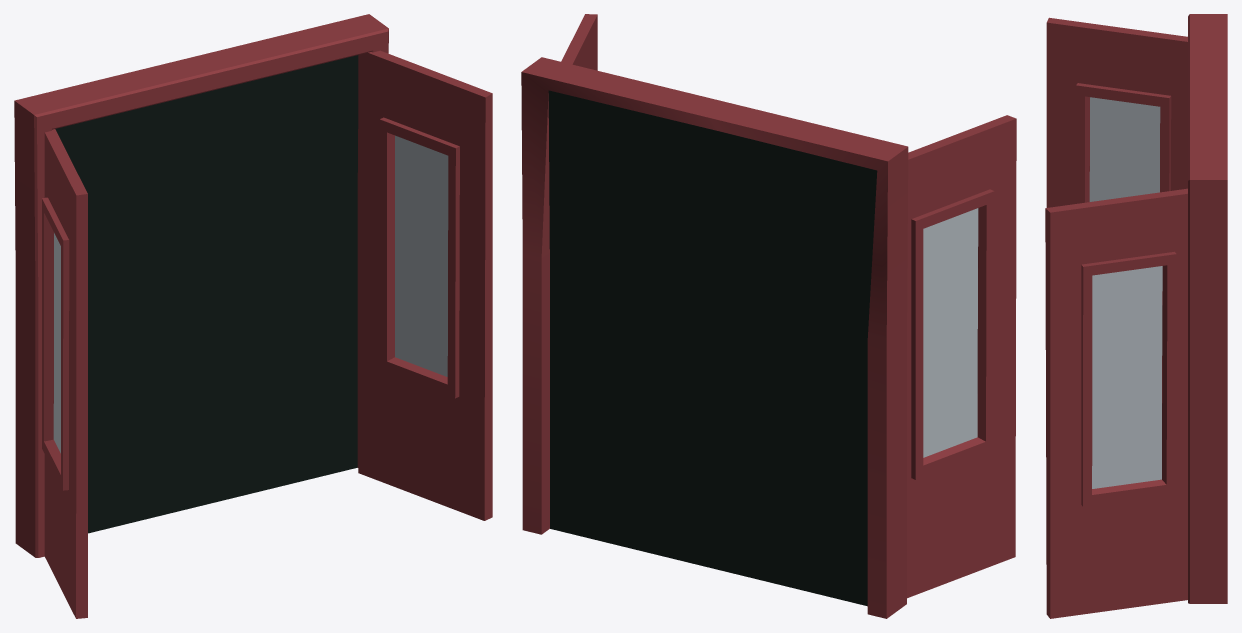
The model's file is fbx_oldbuilding_door_r.fbx.
3 renders of one model, left to right at view 1: azimuth 30°, elevation 25°; view 2: azimuth 150°, elevation 25°; view 3: azimuth 270°, elevation 25°, orthographic. The views are drawn at different scales.
Parts seen in each view (by area): view 1: fbx_oldbuilding_door_r; view 2: fbx_oldbuilding_door_r; view 3: fbx_oldbuilding_door_r.
Part boxes in pixels (bbox=[...]): fbx_oldbuilding_door_r: bbox=[14, 14, 492, 618]; fbx_oldbuilding_door_r: bbox=[521, 14, 1016, 618]; fbx_oldbuilding_door_r: bbox=[1045, 14, 1227, 618].
Size of the model in its own units: 1.46 by 1.48 by 0.5759.
2 materials, 1 textured.
